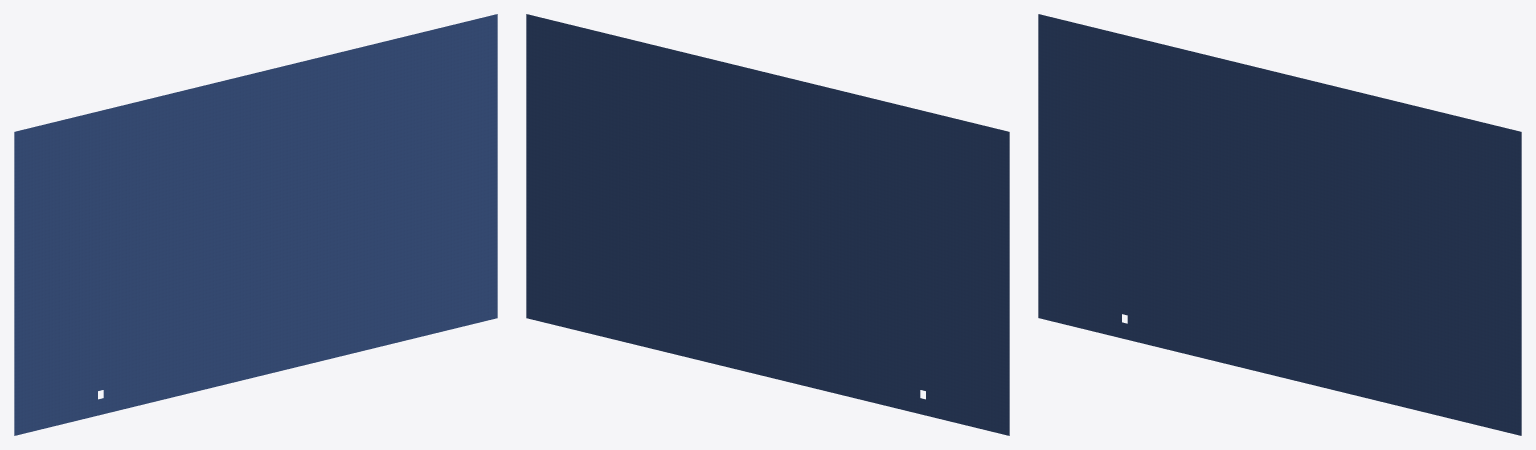
File: floor_1.obj
3 views of the same model, side by side, from view 1: azimuth 30°, elevation 25°; view 2: azimuth 150°, elevation 25°; view 3: azimuth 330°, elevation 25° (orthographic).
Parts seen in each view (by area): view 1: floor_1; view 2: floor_1; view 3: floor_1.
Part boxes in pixels (bbox=[...]): floor_1: bbox=[14, 14, 497, 435]; floor_1: bbox=[526, 14, 1009, 435]; floor_1: bbox=[1038, 14, 1521, 435].
Bounding box in the file's own units: 144 × 86.68 × 0.1.
